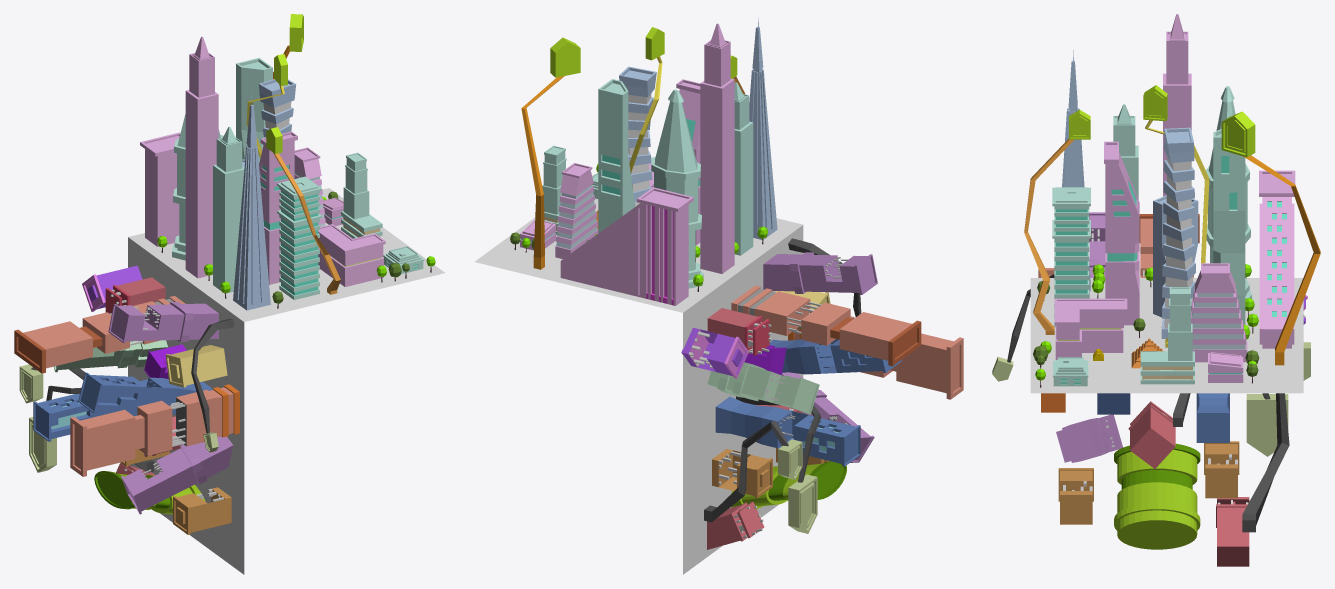
File: upDownSideCity2.glb
3 views of the same model, side by side, from view 1: azimuth 30°, elevation 25°; view 2: azimuth 150°, elevation 25°; view 3: azimuth 270°, elevation 25° (orthographic). The views are drawn at different scales.
Parts seen in each view (by area): view 1: Plane, Cube.030, Cube.008, Cube.003, Cube.001, Cube.081, Cube.010, Cube.068, Cube.023, Cube.007, Cube.020, Cube.002 (+20 smaller); view 2: Plane, Cube.007, Cube.008, Cube.081, Cube.069, Cube.011, Cylinder, Cube.023, Cube.003, Cube.030, Cube.010, Cube.072 (+17 smaller); view 3: Plane, Circle, Cube.007, Cube.004, Cube.002, Cube.011, Cube.009, Cube.001, Cube.014, Cube.063, Cube.008, Cube.077 (+24 smaller).
Part boxes in pixels (<box>): Plane: <box>128,188,444,574</box>; Cube.030: <box>70,384,239,476</box>; Cube.008: <box>185,36,218,278</box>; Cube.003: <box>233,94,270,310</box>; Cube.001: <box>277,176,321,299</box>; Cube.081: <box>14,296,185,373</box>; Cube.010: <box>213,126,244,293</box>; Cube.068: <box>121,436,233,514</box>; Cube.023: <box>108,302,218,343</box>; Cube.007: <box>140,132,180,246</box>; Cube.020: <box>78,372,212,414</box>; Cube.002: <box>259,131,297,284</box>; Plane: <box>474,174,803,574</box>; Cube.007: <box>560,187,693,305</box>; Cube.008: <box>700,23,734,273</box>; Cube.081: <box>731,285,921,366</box>; Cube.069: <box>715,396,860,466</box>; Cube.011: <box>598,79,635,233</box>; Cylinder: <box>651,89,703,288</box>; Cube.023: <box>763,252,877,294</box>; Cube.003: <box>749,18,777,239</box>; Cube.030: <box>788,316,963,399</box>; Cube.010: <box>734,82,753,255</box>; Cube.072: <box>707,362,819,414</box>; Plane: <box>1030,278,1303,393</box>; Circle: <box>1114,443,1200,549</box>; Cube.007: <box>1259,170,1295,348</box>; Cube.004: <box>1161,127,1195,338</box>; Cube.002: <box>1104,141,1139,325</box>; Cube.011: <box>1213,129,1245,324</box>; Cube.009: <box>1191,263,1247,362</box>; Cube.001: <box>1052,187,1090,327</box>; Cube.014: <box>1054,298,1127,359</box>; Cube.063: <box>1140,287,1194,384</box>; Cube.008: <box>1163,14,1191,196</box>; Cube.077: <box>1173,393,1288,456</box>.
Bounding box in the file's own units: 8.92 × 11.56 × 6.01.
